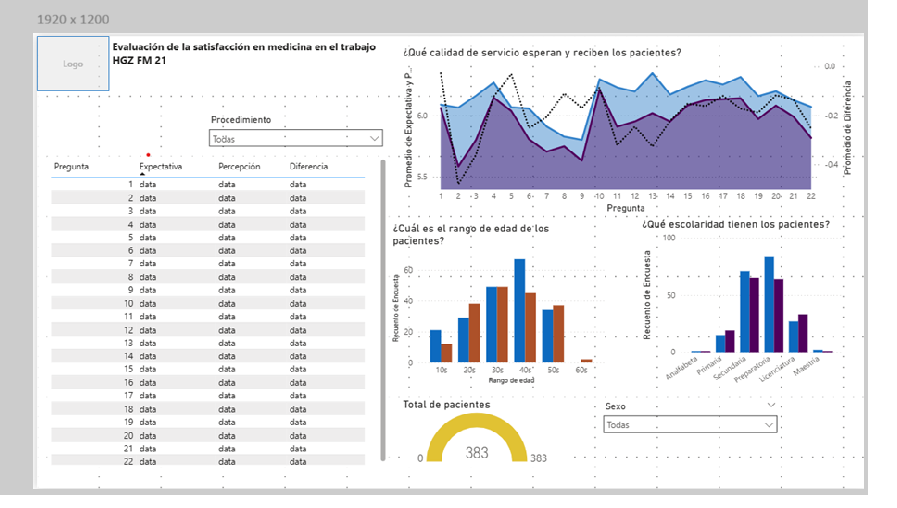

The dashboard page shown, as its layout file describes it:
{"tool":"powerbi","page":{"name":"Análisis","canvas":[1280,720],"ordinal":0},"visuals":[{"type":"clusteredColumnChart","title":"¿Cuál es el rango de edad de los pacientes?","fields":{"Category":["generales (3).rango_edad"],"Y":["CountNonNull(generales (3).encuesta)"],"Series":["generales (3).sexo"]},"box":[560,32,336,496],"z":0},{"type":"slicer","fields":{"Values":["generales (3).procedimiento"]},"box":[240,112,304,80],"z":1000},{"type":"clusteredColumnChart","title":"¿Qué escolaridad tienen los pacientes?","fields":{"Category":["generales (3).escolaridad"],"Y":["CountNonNull(generales (3).encuesta)"],"Series":["generales (3).sexo"]},"box":[928,32,320,512],"z":2000},{"type":"gauge","title":"Total de pacientes","fields":{"Y":["CountNonNull(generales (3).encuesta)"]},"box":[560.2,576.4,248.7,127.8],"z":3000},{"type":"pivotTable","fields":{"Rows":["satisfaccion.pregunta"],"Values":["Avg(satisfaccion.expectativa)","Avg(satisfaccion.percepcion)","Avg(satisfaccion.diferencia)"]},"box":[0,208,544,512],"z":4000},{"type":"textbox","box":[176,32,352,64],"z":5000},{"type":"slicer","fields":{"Values":["generales (3).sexo"]},"box":[840.2,566,287.1,63.9],"z":6000},{"type":"actionButton","box":[16.3,137.1,208,63.9],"z":7000},{"type":"bookmarkNavigator","box":[848.4,654.3,416.1,50],"z":8000},{"type":"actionButton","box":[1163.5,556.3,116.2,84.2],"z":9000},{"type":"slicer","fields":{"Values":["generales (3).procedimiento"]},"box":[250,122,304,80],"z":10000}]}

Visuals, with their boxes on the page's 1280x720 design canvas (x1, y1, x2, y2). These are canvas units, not pixel positions in the 897x508 screenshot, which may show the page scaled, cropped or inside an application window:
"¿Cuál es el rango de edad de los pacientes?" clusteredColumnChart: bbox=(560, 32, 896, 528)
slicer - generales (3).procedimiento: bbox=(240, 112, 544, 192)
"¿Qué escolaridad tienen los pacientes?" clusteredColumnChart: bbox=(928, 32, 1248, 544)
"Total de pacientes" gauge: bbox=(560, 576, 809, 704)
pivotTable - satisfaccion.pregunta x Avg(satisfaccion.expectativa): bbox=(0, 208, 544, 720)
textbox: bbox=(176, 32, 528, 96)
slicer - generales (3).sexo: bbox=(840, 566, 1127, 630)
actionButton: bbox=(16, 137, 224, 201)
bookmarkNavigator: bbox=(848, 654, 1264, 704)
actionButton: bbox=(1164, 556, 1280, 640)
slicer - generales (3).procedimiento: bbox=(250, 122, 554, 202)
